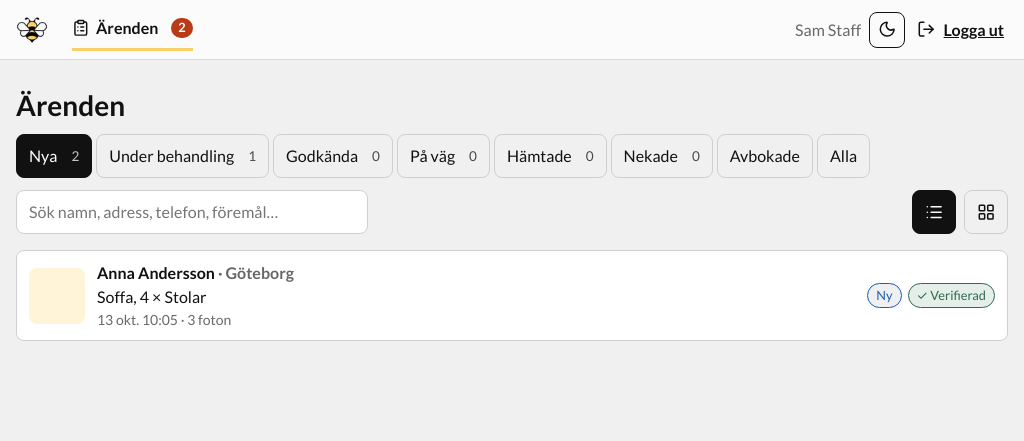
Test: auth › logs out
Click the button "Logga ut" at [961, 30], box [913,14,1008,46]
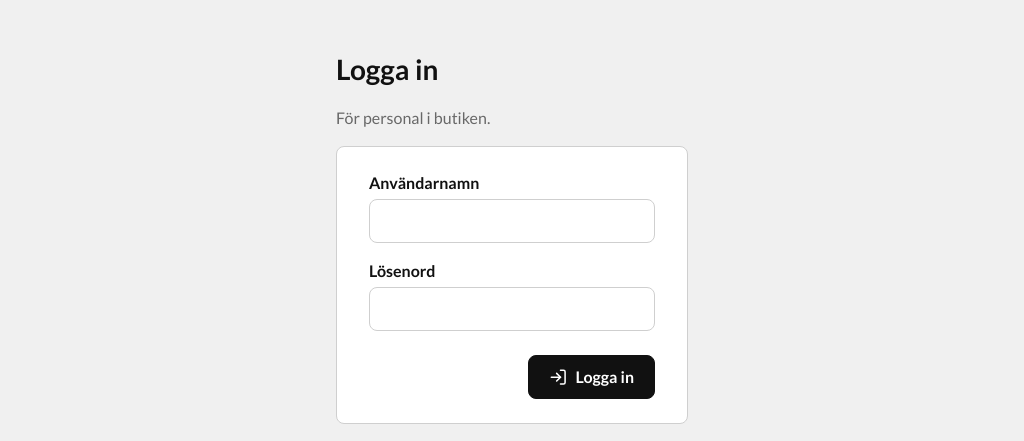
Expected: the heading "Logga in" is shown, [336,52,438,86]
